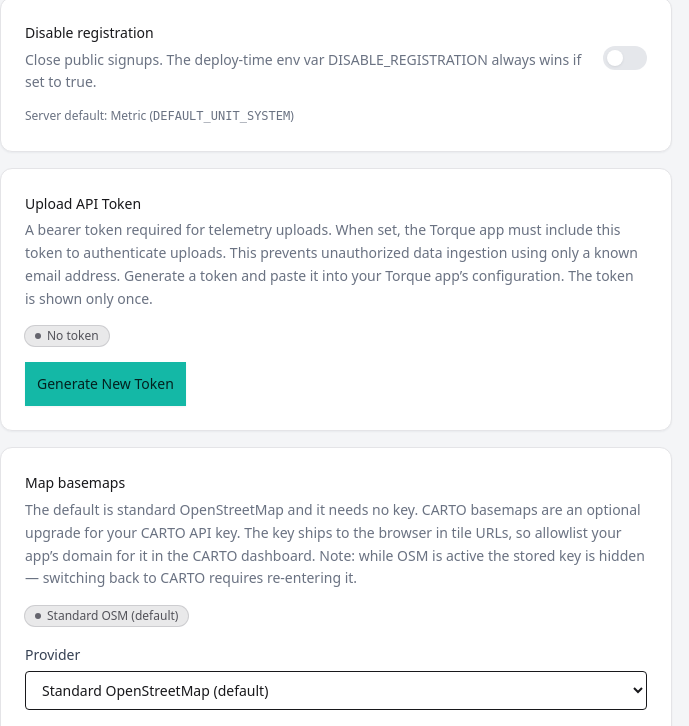
SettingsPage (jsdom) › admin: generates a token once and renders it exactly once
(page scrolled)
Expected: the text "Upload API Token" is shown, 25,194 -> 141,212
Click the button "Generate New Token". click: click(105, 384)
box: 25,362 -> 186,406
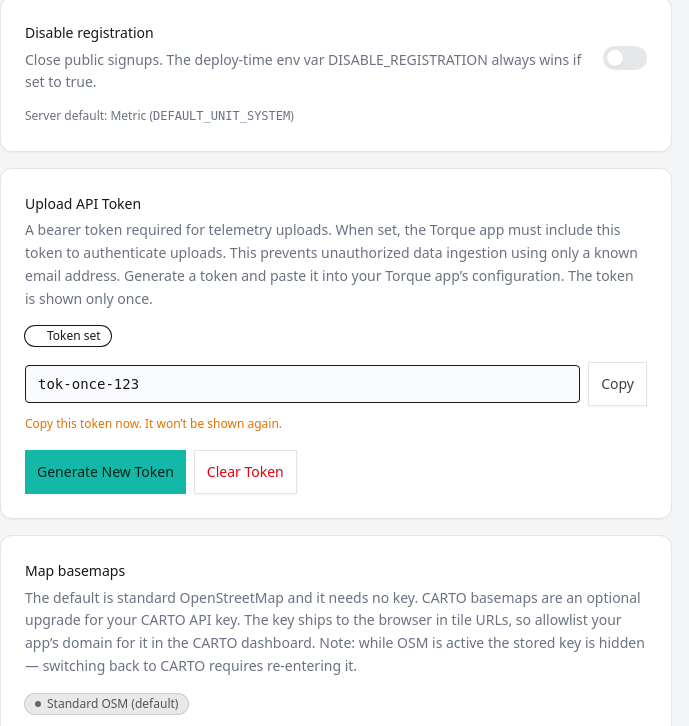
Result: the text "tok-once-123" is shown once at 25,365 -> 580,403
Click the button "Clear Token". click: click(245, 472)
box: 194,450 -> 297,494
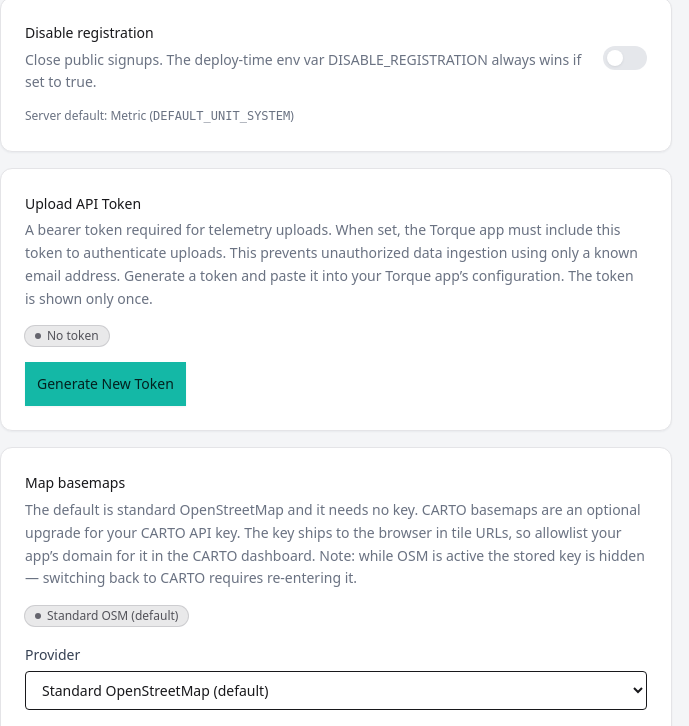
Result: the text "tok-once-123" is gone
